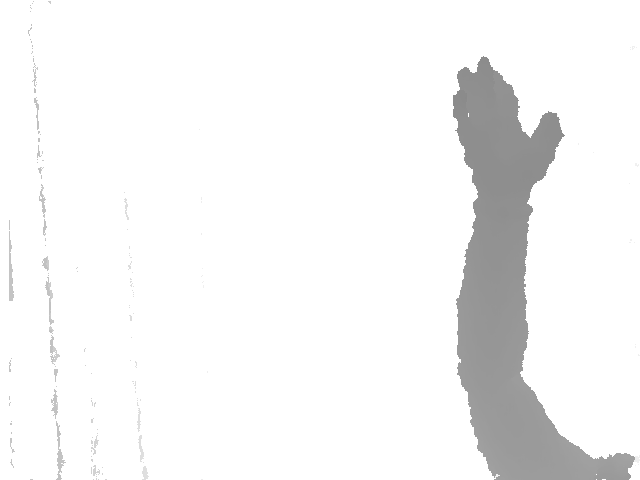hand: (451, 54, 567, 213)
person: (447, 52, 638, 480)
